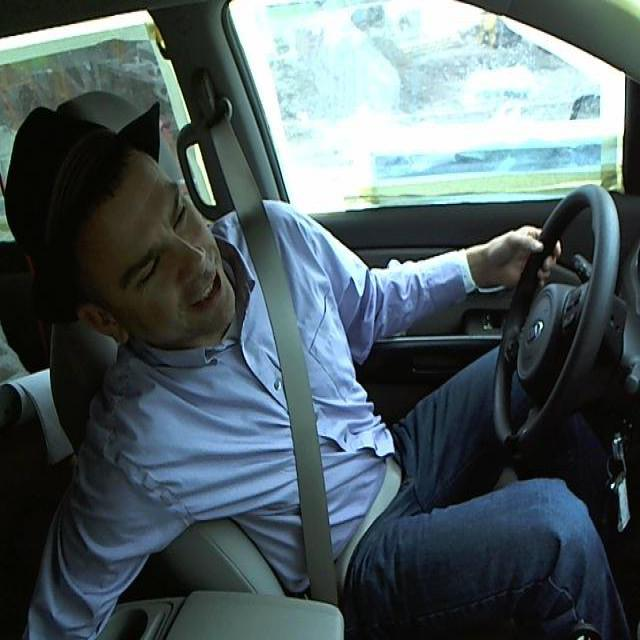seatbelt: (191, 94, 381, 638)
